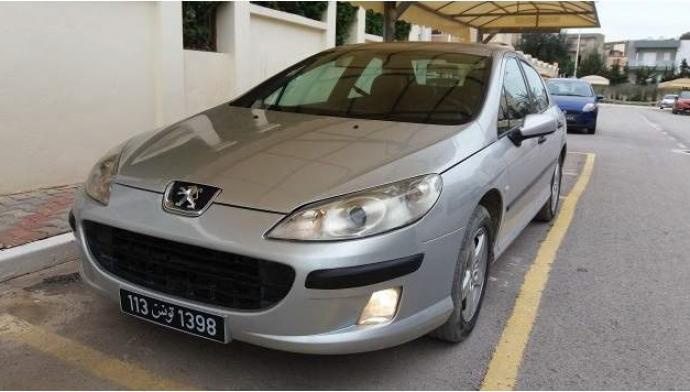LP: (118, 285, 228, 349)
